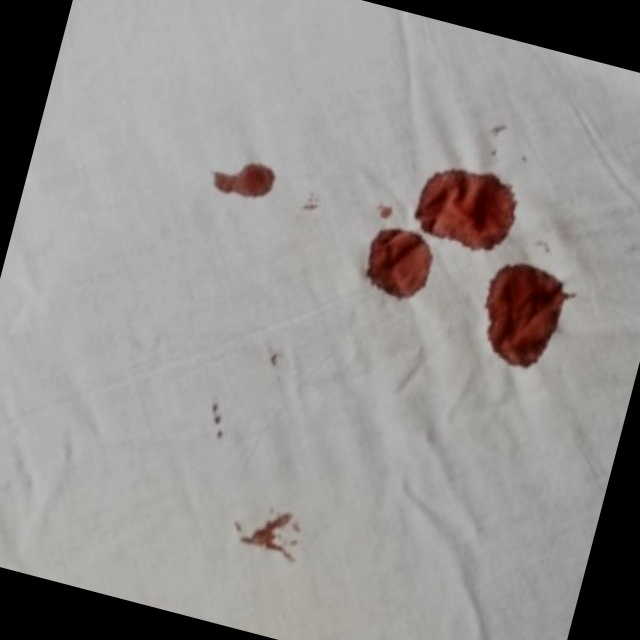blood: (466, 253, 577, 377), (404, 153, 528, 258), (356, 216, 440, 308), (200, 146, 285, 218)
